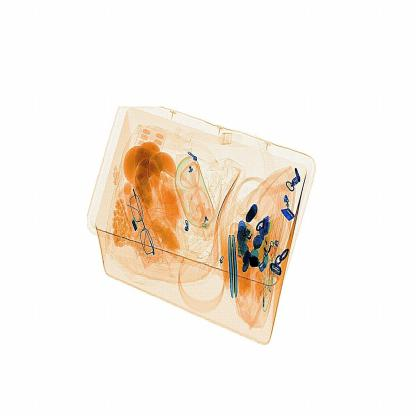scissors: (245, 251, 269, 280)
